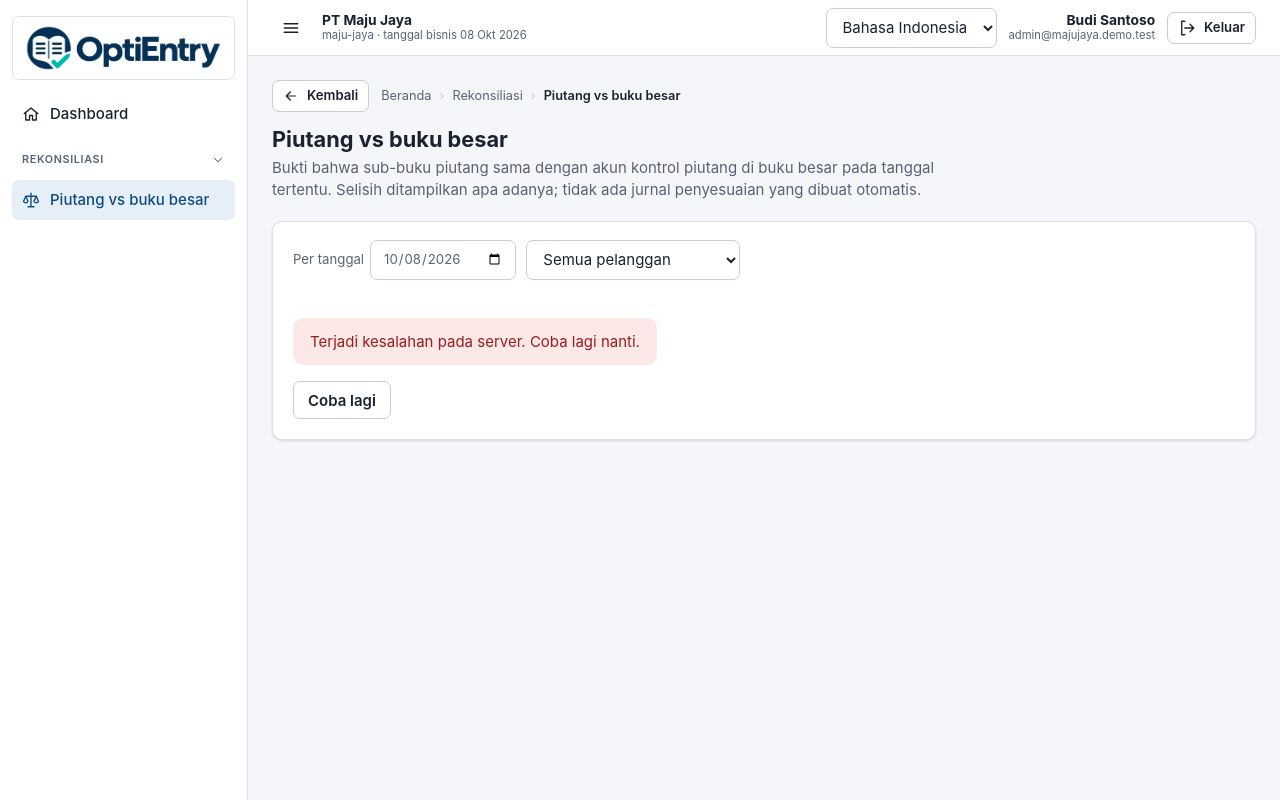
Test: receivables vs general ledger reconciliation › shows empty states for a ledger without control accounts and customers, and an error with a retry
Expected: the text "Terjadi kesalahan pada server. Coba lagi nanti." is shown, top-left (310, 331), bottom-right (640, 352)
Click the button "Coba lagi" at point(342, 400), box top-left (293, 381), bottom-right (391, 419)
(page scrolled)
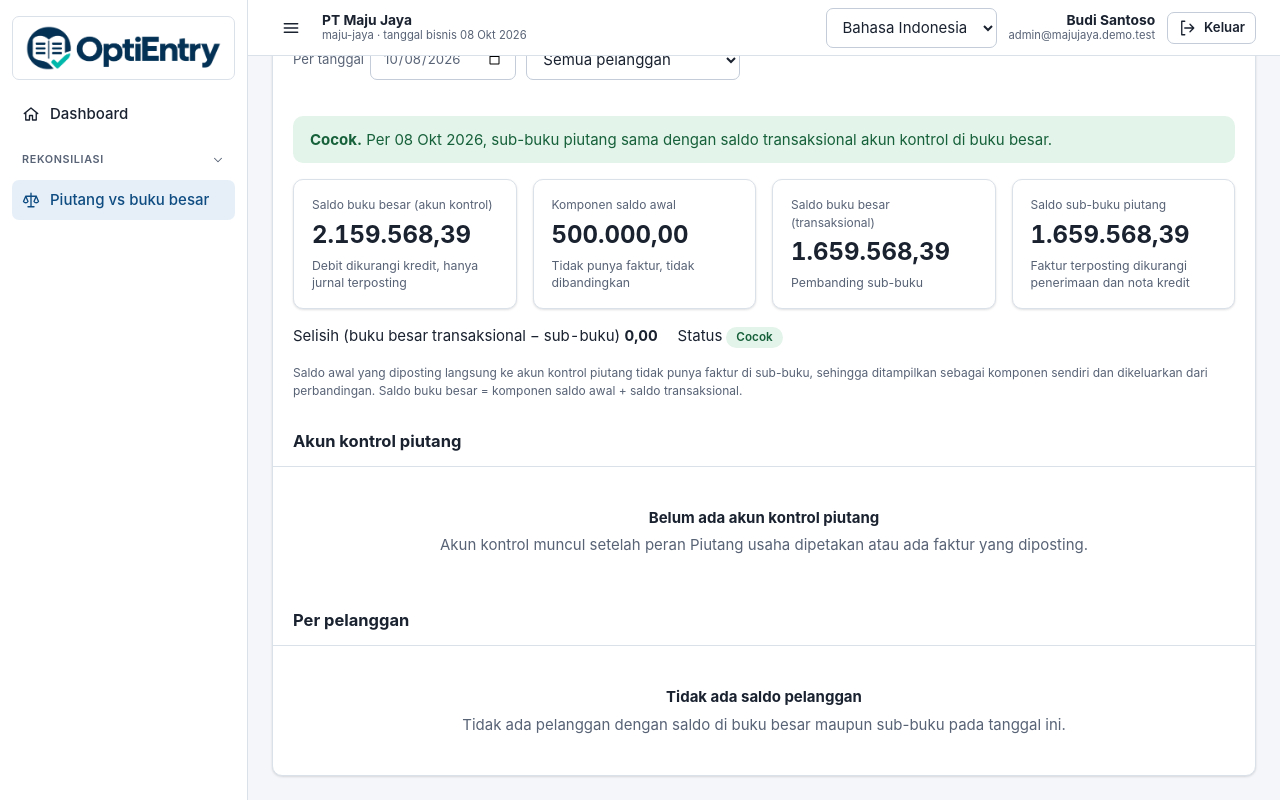
Expected: the text "Belum ada akun kontrol piutang" is shown, top-left (649, 507), bottom-right (879, 528)
Expected: the text "Tidak ada saldo pelanggan" is shown, top-left (666, 686), bottom-right (862, 708)
